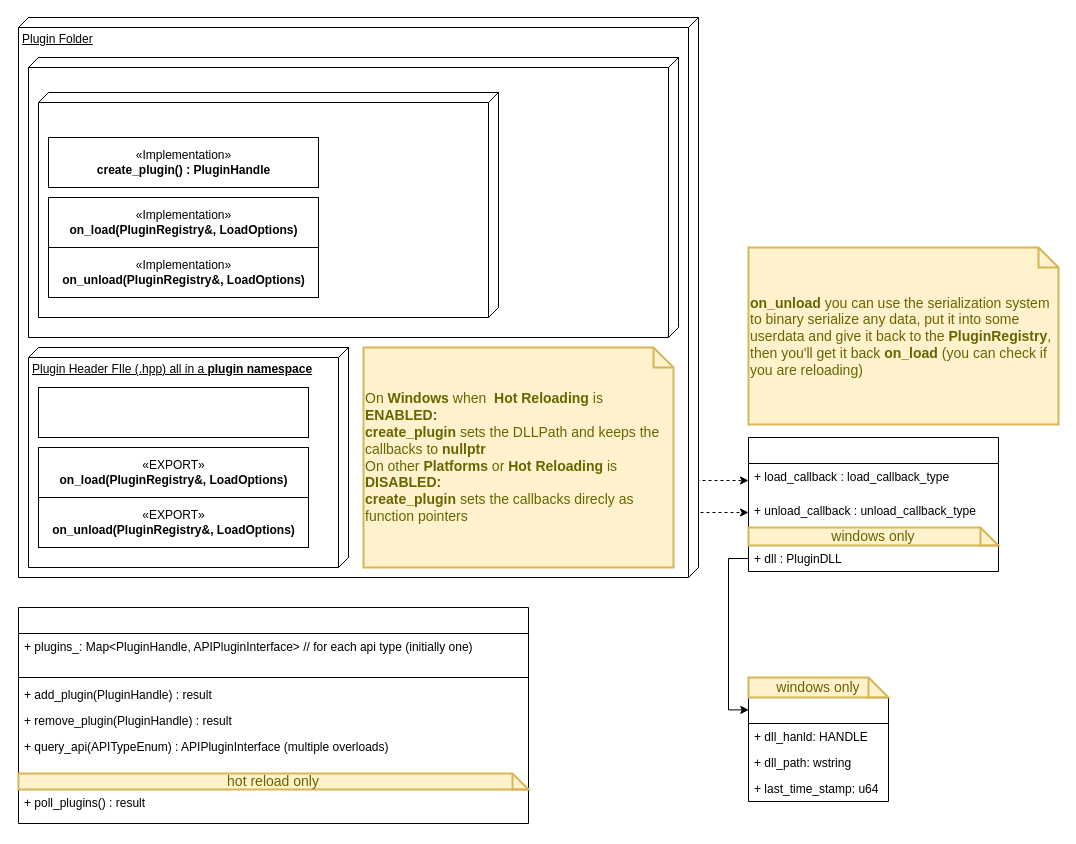
This 1076x844 diagram has some shape labels left out. Each missing label, with the box of its shape:
Plugin Implementation File (.cpp): (38, 92, 498, 318)
PluginDLL: (748, 696, 888, 802)
PluginHandle: (748, 436, 998, 572)
PluginRegistry: (18, 606, 528, 824)
Private Folder: (28, 56, 678, 338)
«interface» create_plugin() : PluginHandle: (38, 386, 308, 438)
